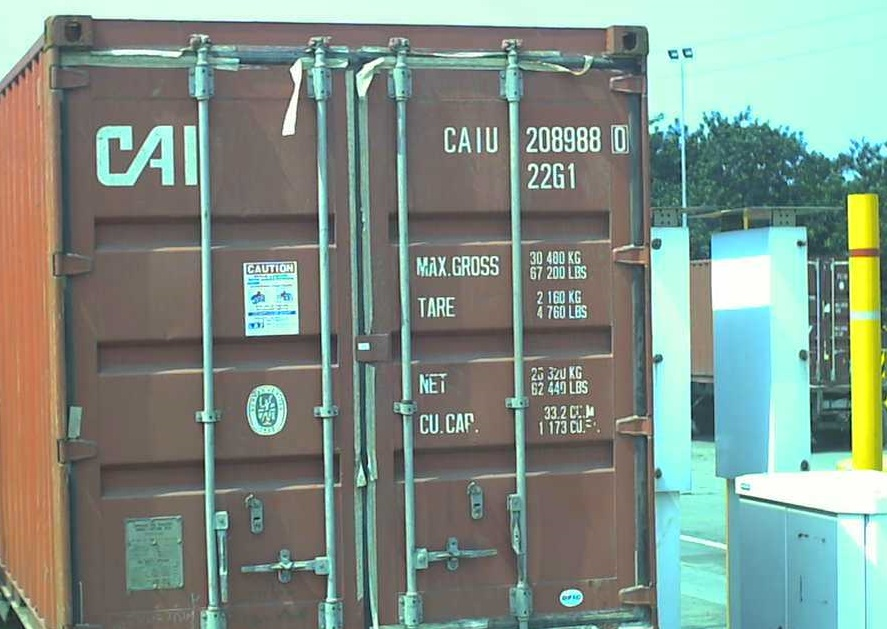container_door: (49, 14, 661, 629)
